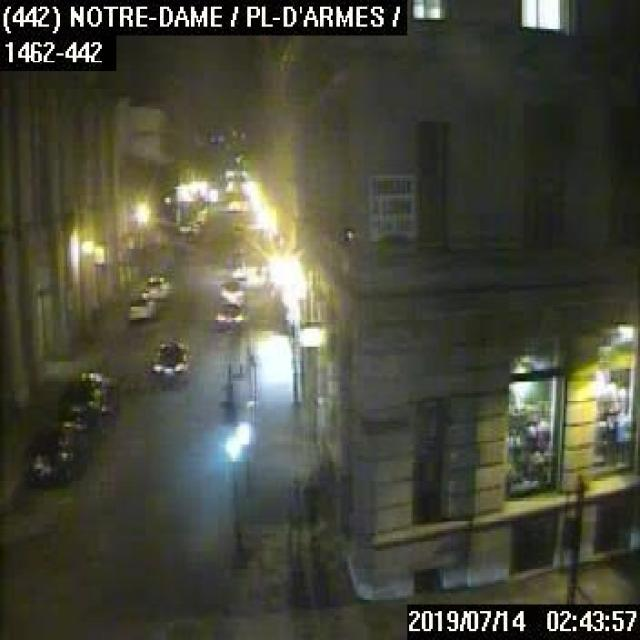vehicle: (24, 414, 94, 487), (56, 369, 122, 431), (144, 333, 189, 378), (122, 290, 158, 318), (211, 301, 245, 329), (140, 269, 171, 297), (218, 280, 245, 306)
